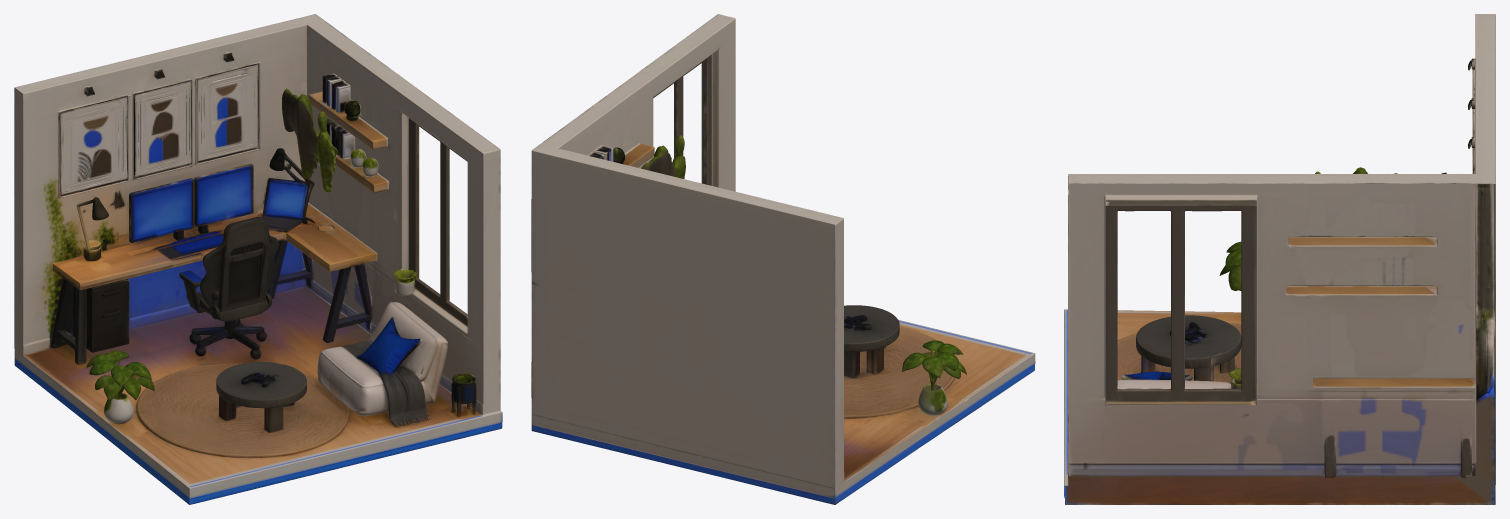
The model's file is hunyuan.gltf.
3 views of the same model, side by side, from view 1: azimuth 30°, elevation 25°; view 2: azimuth 150°, elevation 25°; view 3: azimuth 270°, elevation 25° (orthographic). The views are drawn at different scales.
Parts seen in each view (by area): view 1: material; view 2: material; view 3: material.
Boxes of the visible parts, box(x1,y1,x2,y2) form: material: box(14, 14, 502, 504); material: box(531, 14, 1035, 504); material: box(1064, 14, 1495, 504).
Bounding box in the file's own units: 0.7334 × 0.6038 × 0.7344.
Materials: 1 (1 with a texture image).
